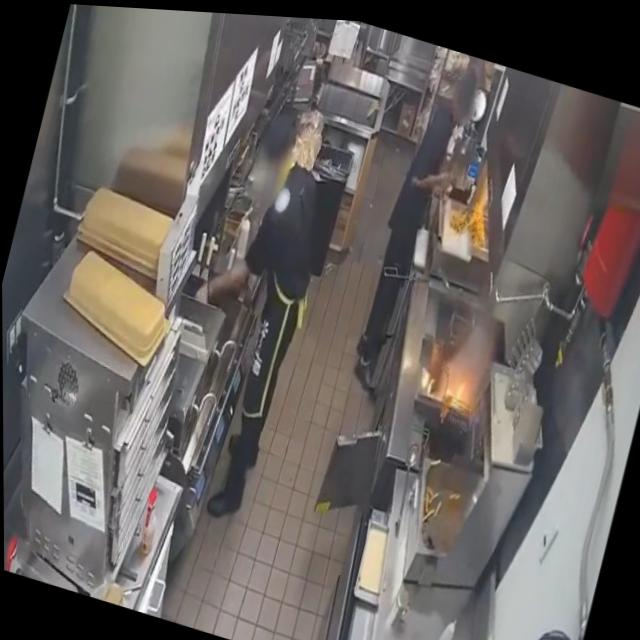fire: (441, 367, 474, 399)
